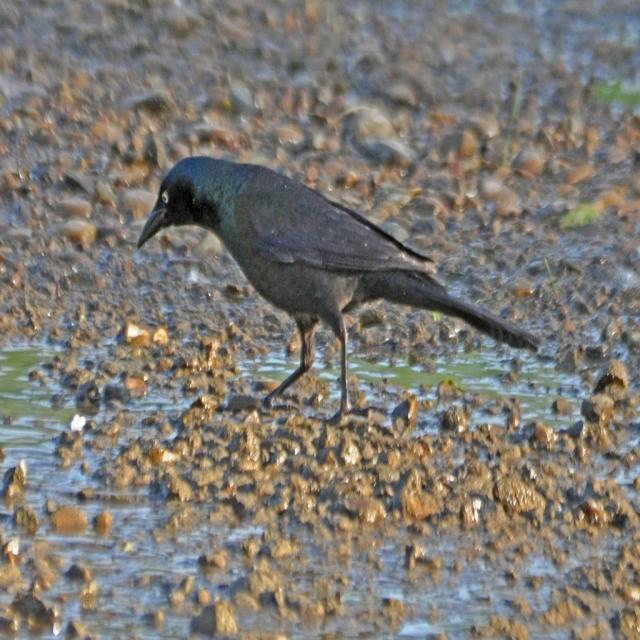bird: (134, 147, 542, 414)
